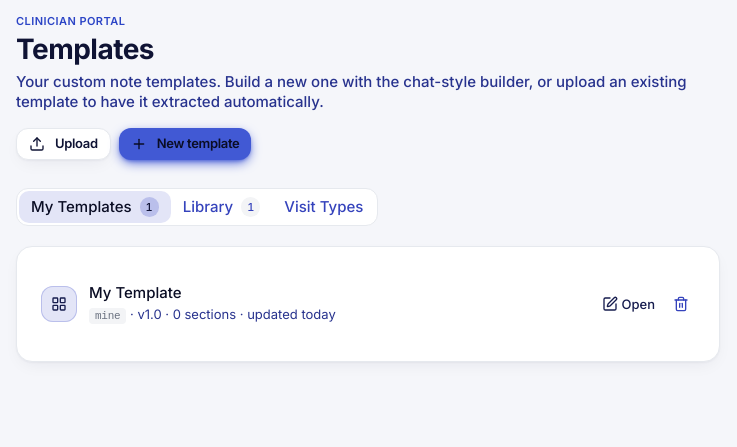
Test: PortalTemplatesPage — tabbed My Templates / Library split + fork › forks a Library row and the copy lands under My Templates
The width and height of the screenshot is (737, 447).
Fork happens from the Library tab.
Click the tab with test id "templates-tab-library".
click(222, 207)  # box [171,191,272,223]
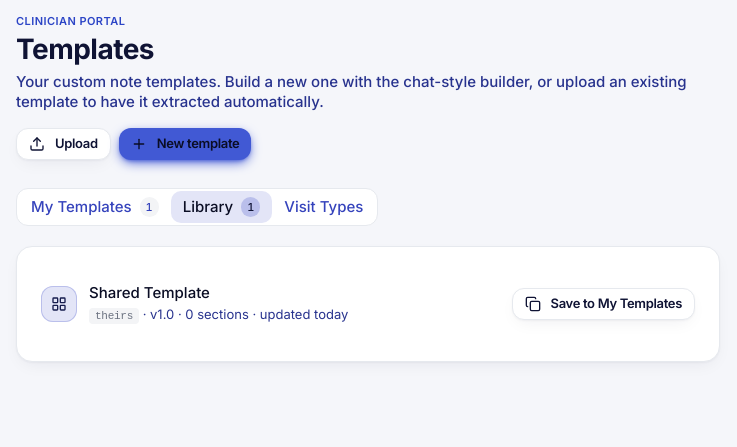
Click the button "Save to My Templates".
click(603, 304)  # box [512,288,695,320]
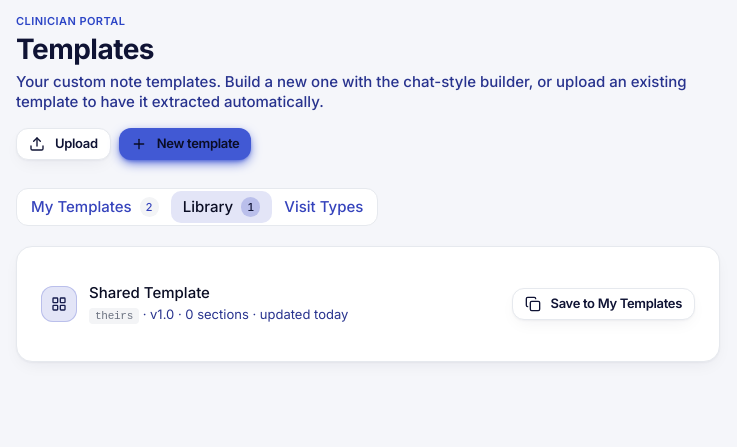
Back on My Templates, the fork now shows as an owned row (has Delete).
Click the tab with test id "templates-tab-mine".
click(95, 207)  # box [19,191,171,223]
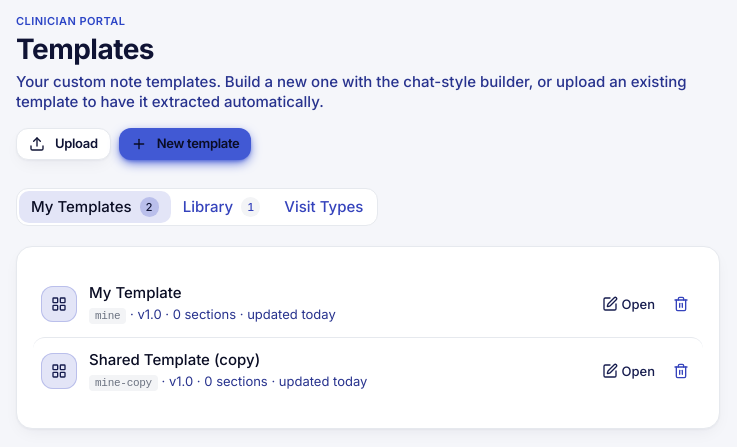
Check: the button named "Delete Shared Template (copy)" is shown, box [667,357,695,385]
